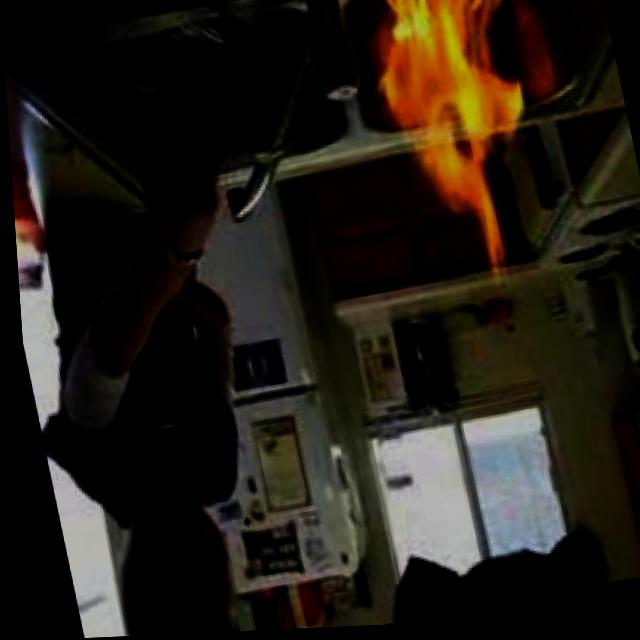Fire: (355, 0, 553, 281)
